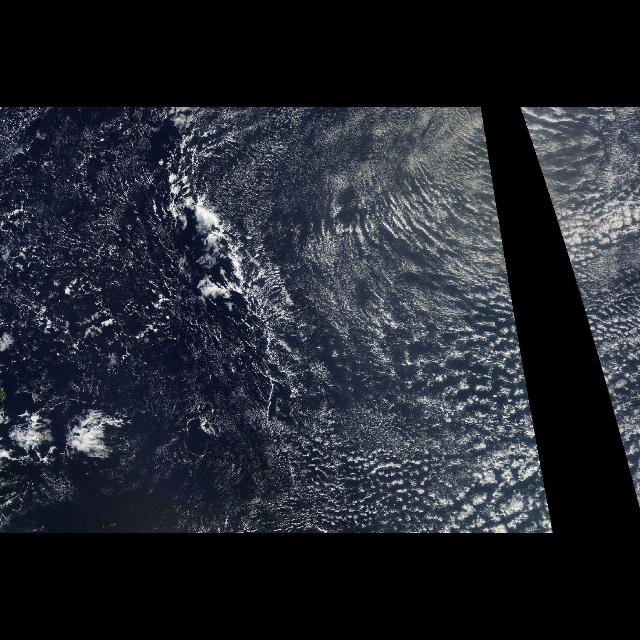Flower: (297, 428, 553, 528)
Gravel: (5, 110, 255, 412), (274, 312, 554, 530), (583, 311, 637, 503)
Sugar: (207, 112, 499, 408)
